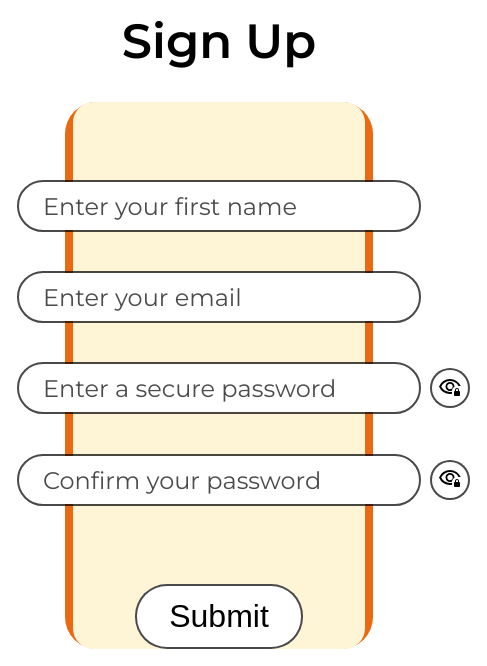
Test case: SignUp Form Validation › shouldn't allow names more than 20 chars
The width and height of the screenshot is (487, 666).
Type "ThisIsANameThatIsLongerThanTwentyCharacters" into the field with test id "name" at [219, 206], box [19,182,419,230]
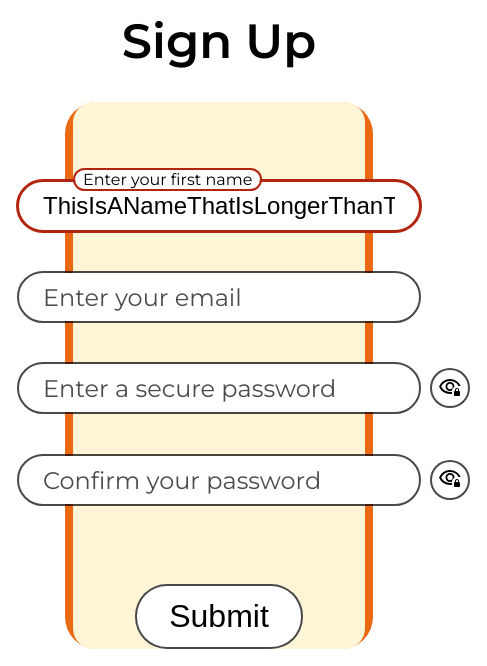
Click the button "Submit" at [219, 616], box [135,584,303,649]
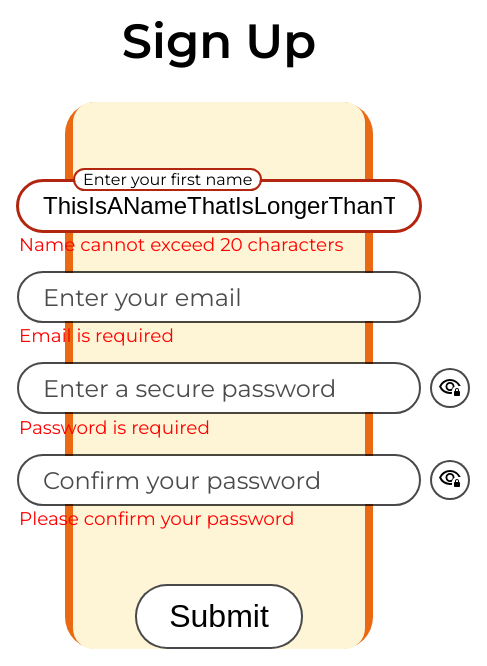
Result: the text "Name cannot exceed 20 characters" is shown at [19,233,344,256]
